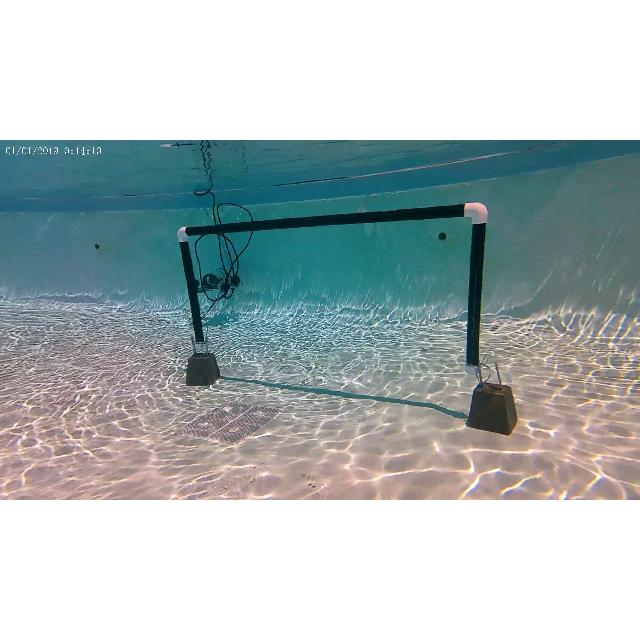prequal gate: (177, 202, 488, 374)
prequal gate leg l: (172, 223, 224, 385)
prequal gate leg r: (454, 197, 520, 439)
